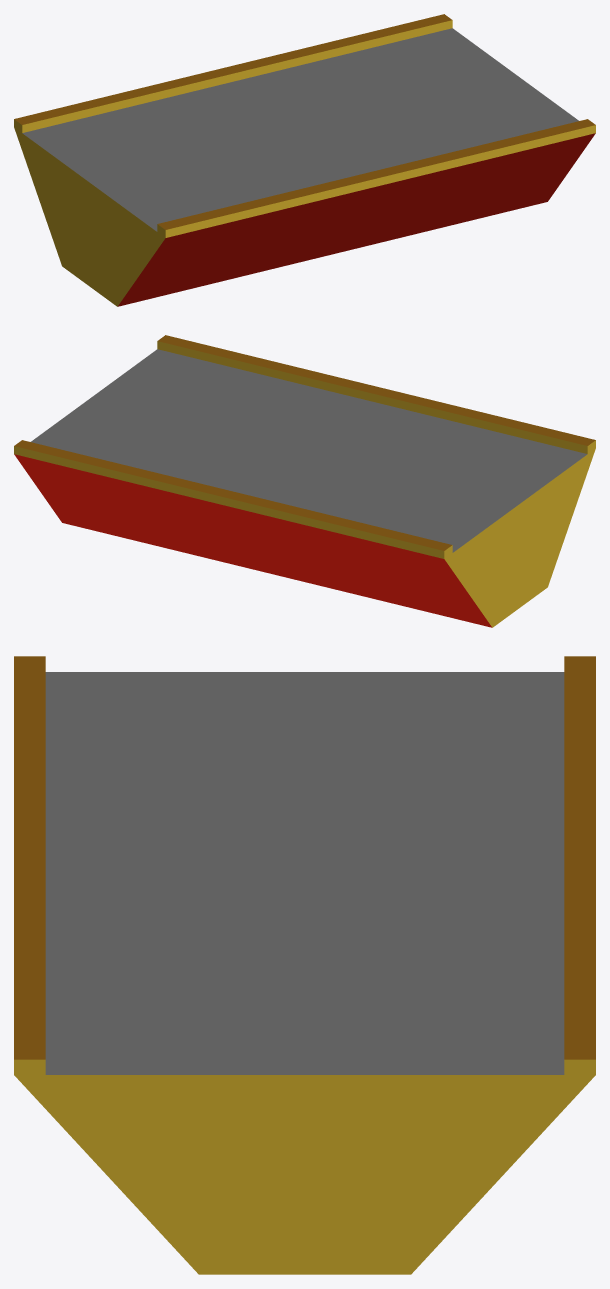
File: grace_fo_low_fidelity.dae
The picture shows the model from 3 angles, top to bottom: view 1: azimuth 30°, elevation 25°; view 2: azimuth 150°, elevation 25°; view 3: azimuth 270°, elevation 25°; orthographic projection. The views are drawn at different scales.
Parts seen in each view (by area): view 1: grace_fo; view 2: grace_fo; view 3: grace_fo.
Part boxes in pixels (x1,y1,x2,y2): grace_fo: (14,14,595,306); grace_fo: (14,335,595,627); grace_fo: (14,656,595,1274).
Size of the model in its own units: 3.12 by 1.9 by 0.777.
